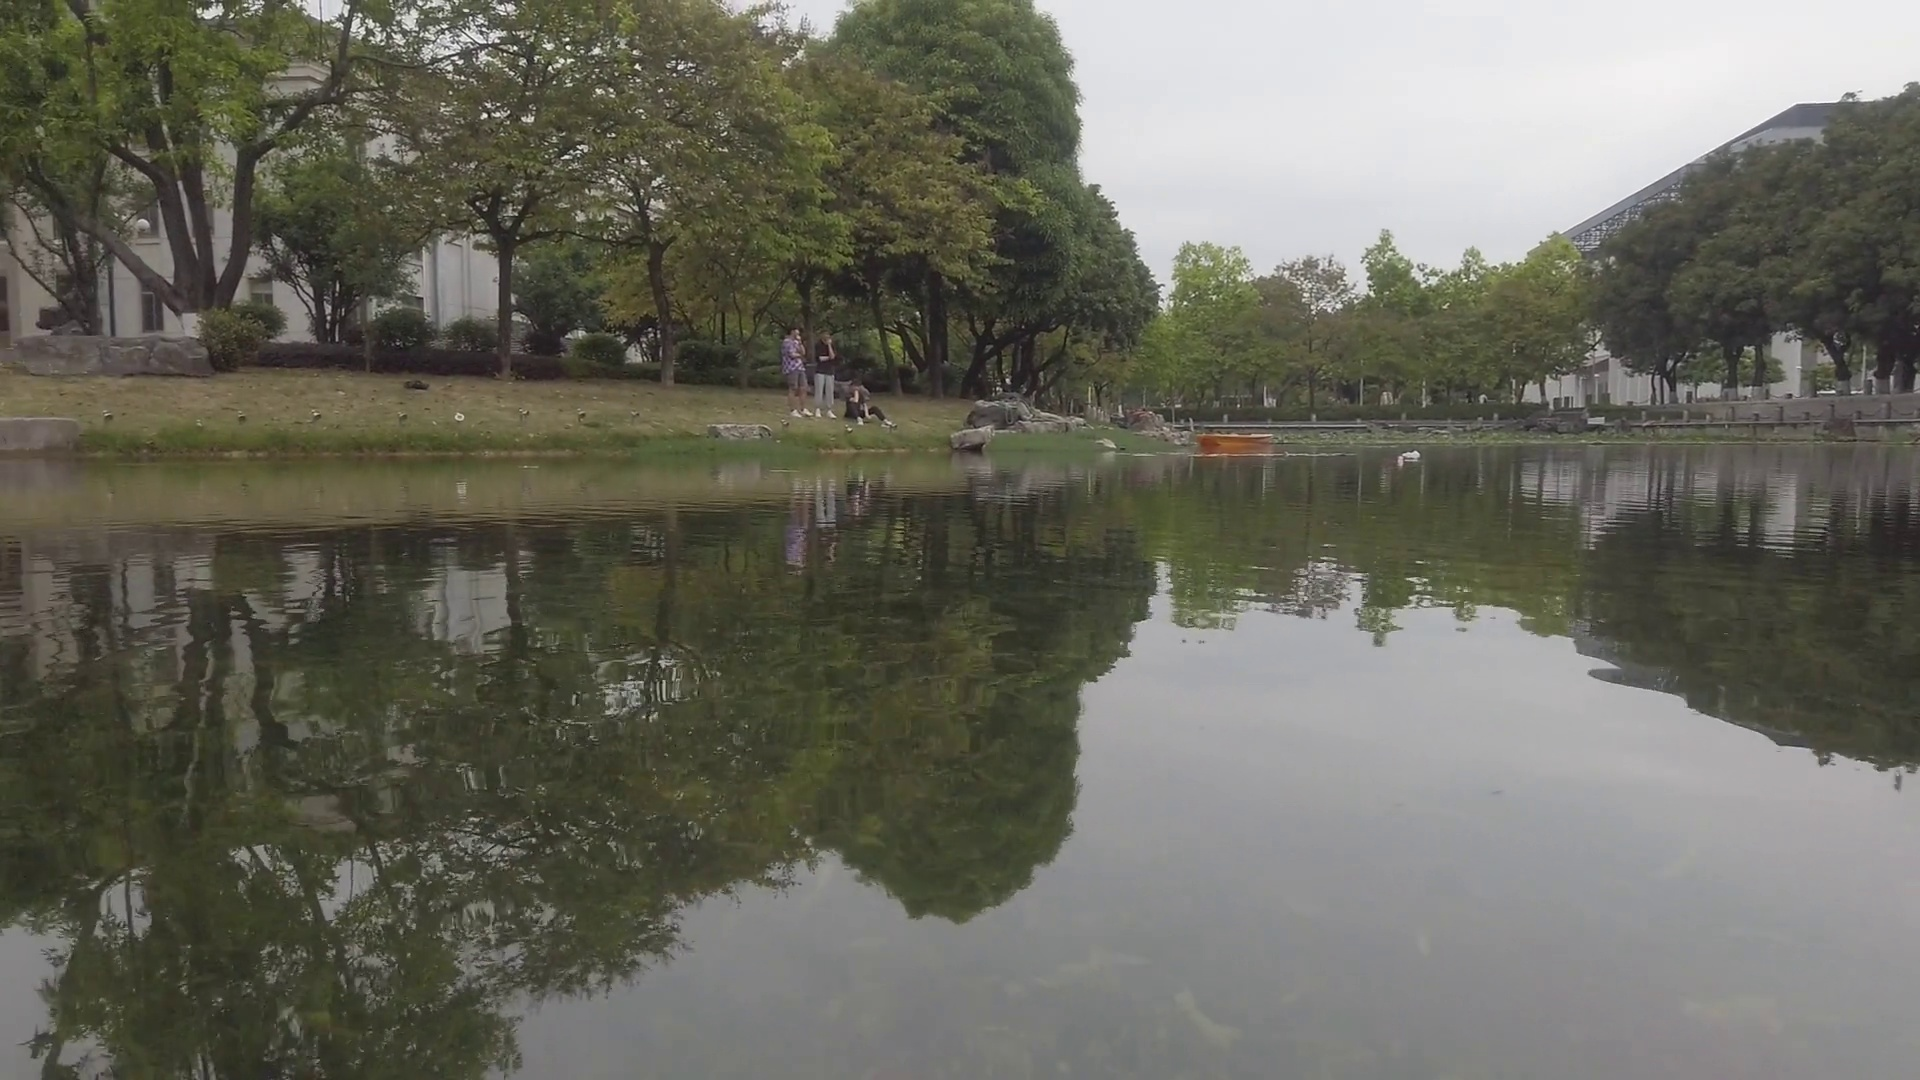plastic: (1400, 448, 1422, 459)
